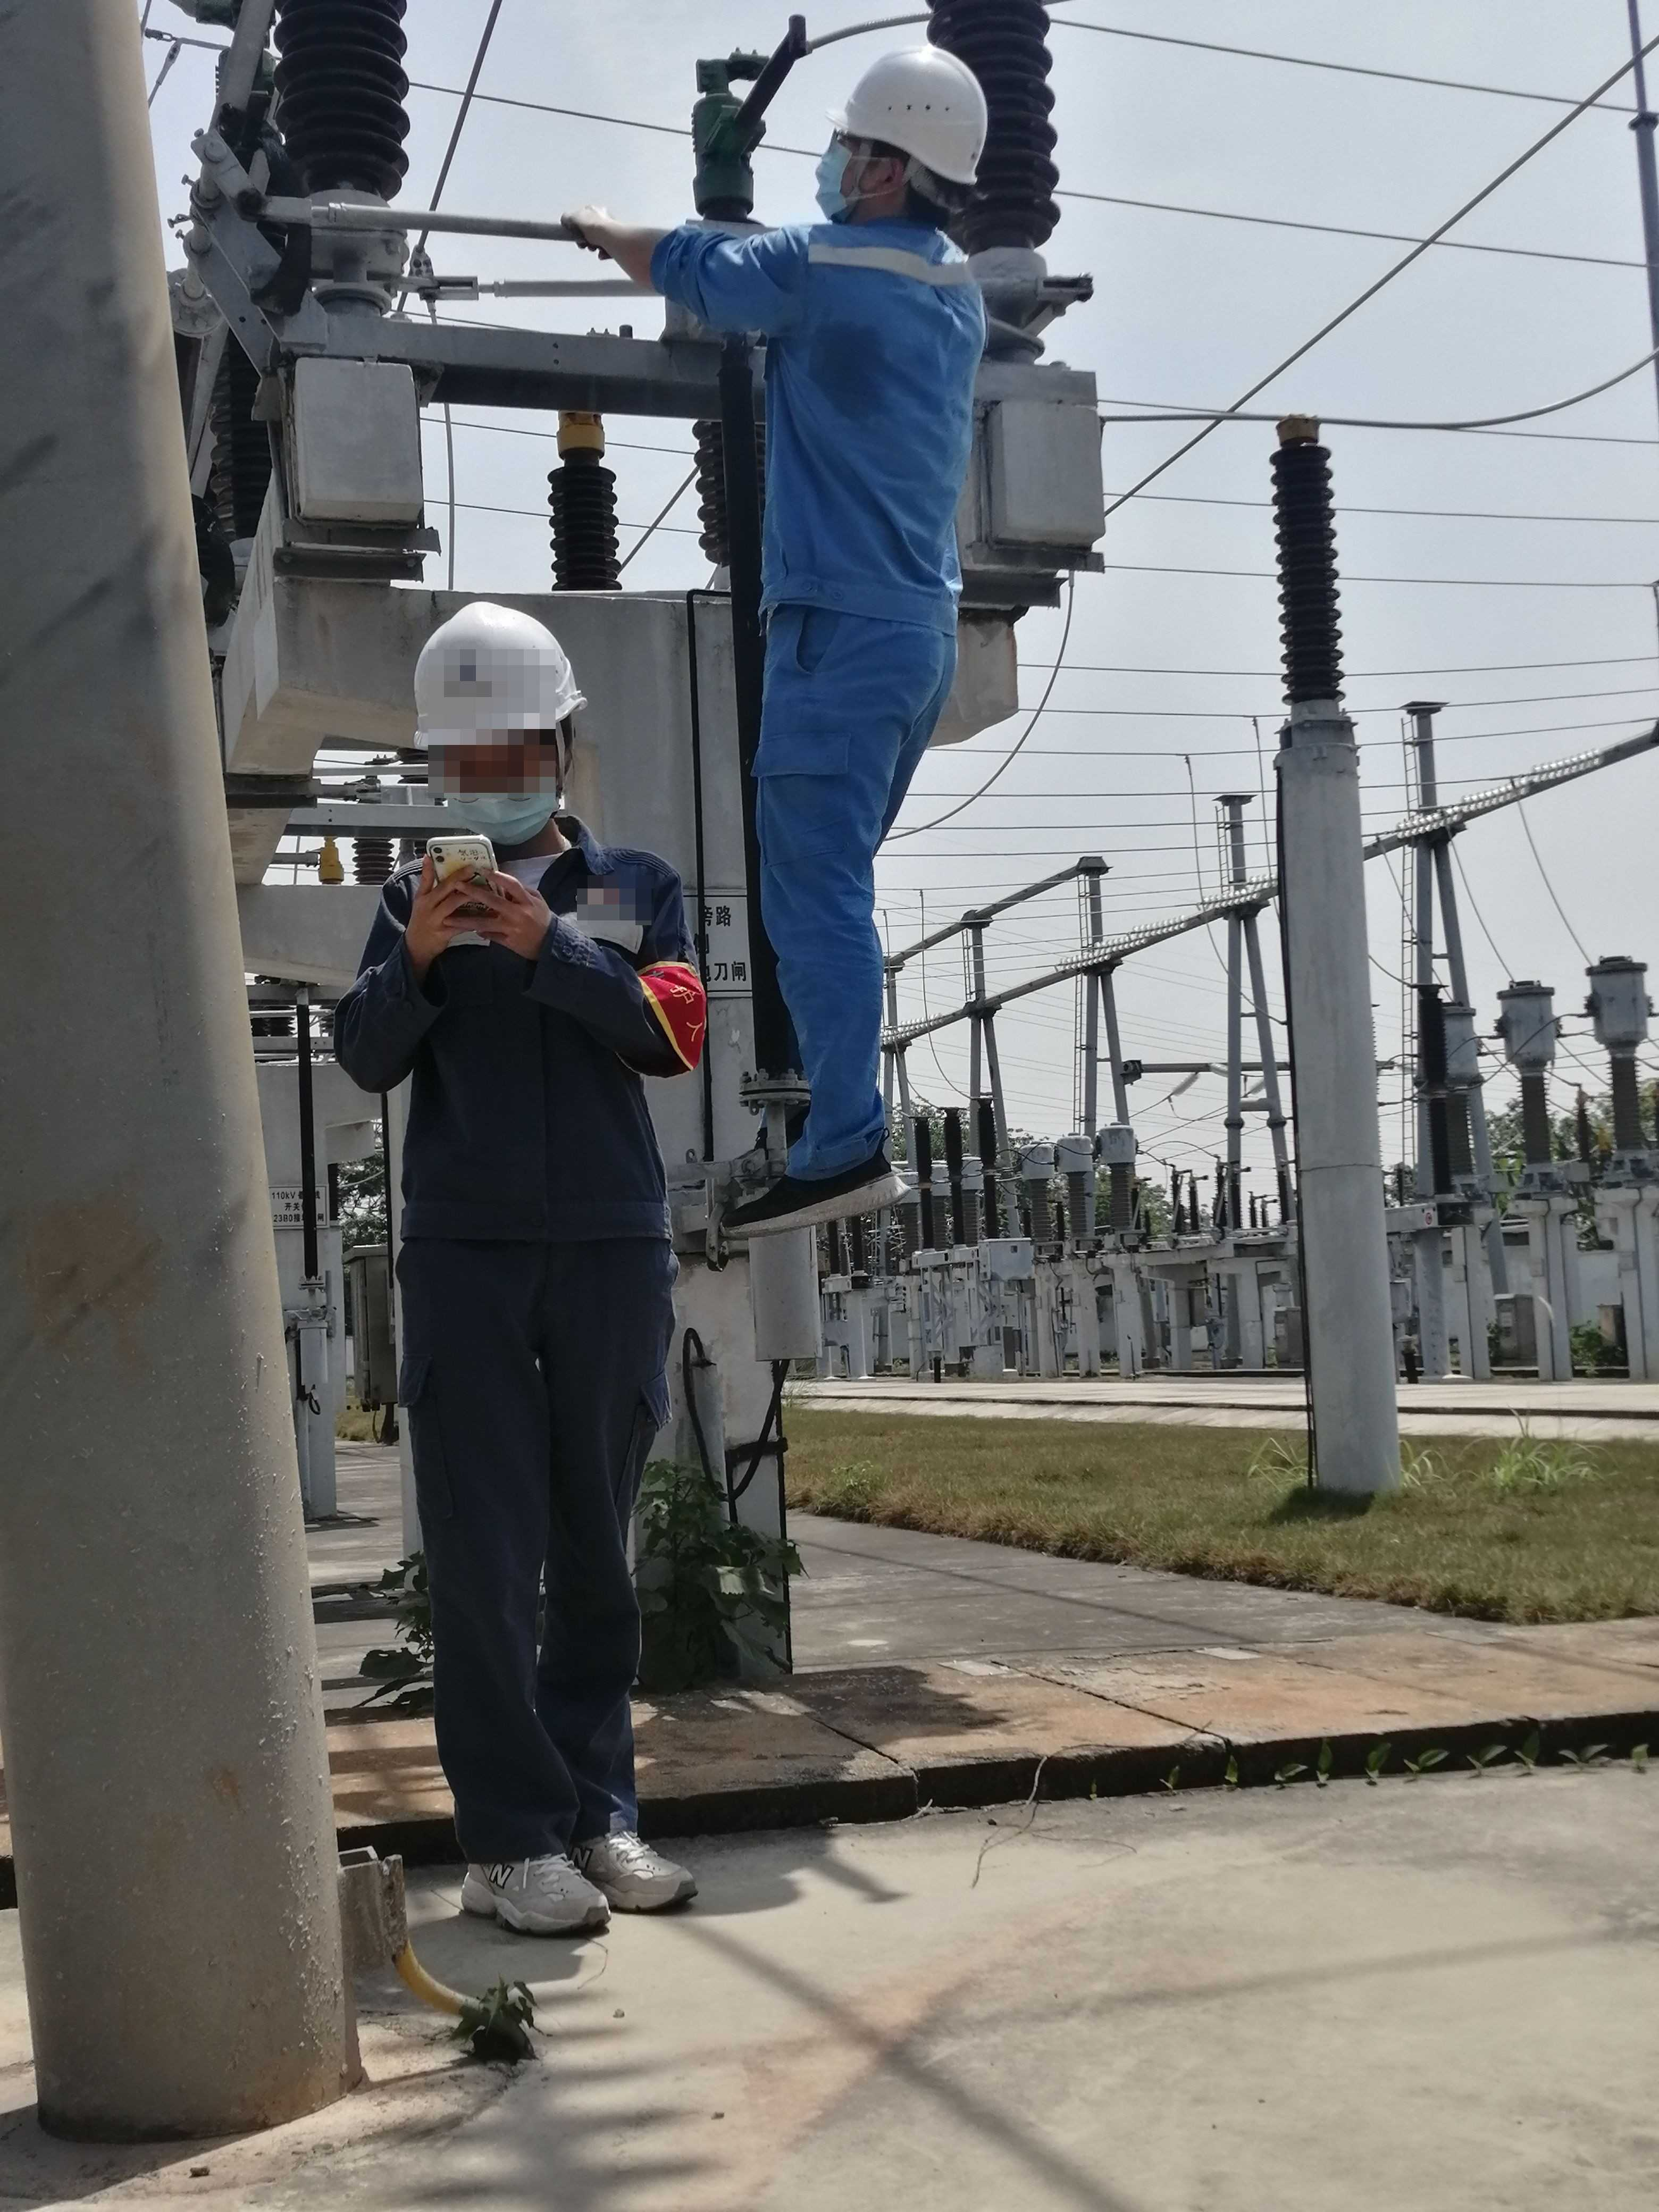downsuit: (396, 1259, 680, 1855), (753, 636, 950, 1151)
upsuit: (329, 822, 702, 1231), (655, 214, 995, 613)
wrongtop: (563, 200, 685, 296)
